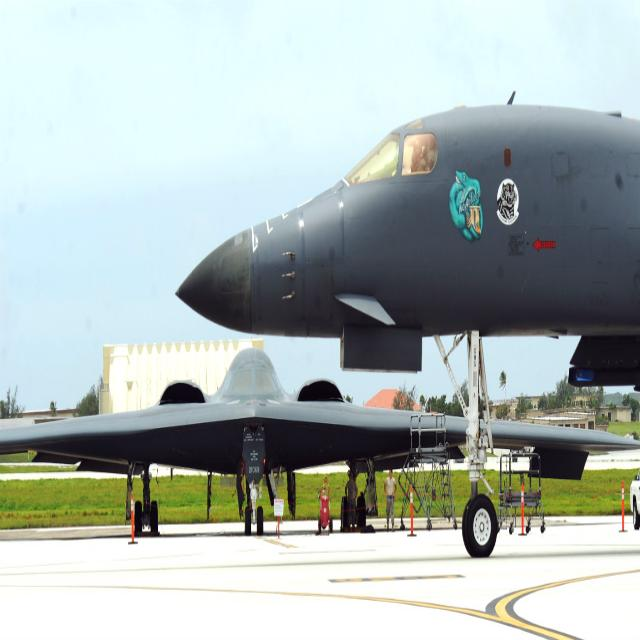MIL_Plane: (176, 95, 637, 553), (0, 347, 640, 532)
